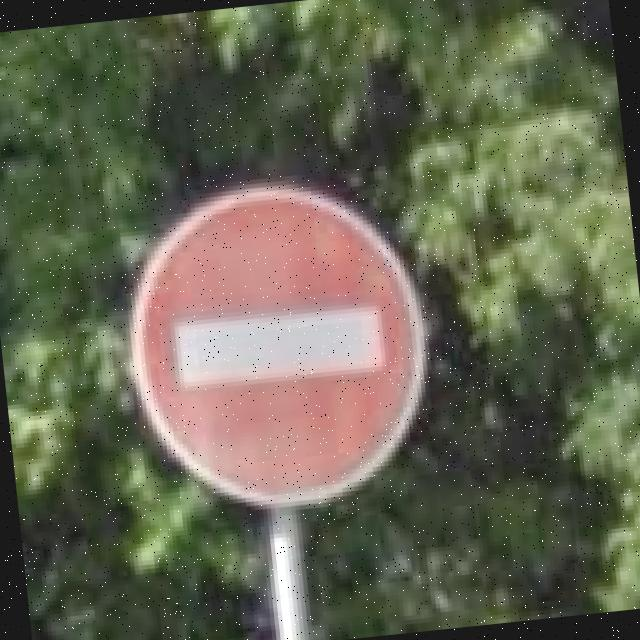Zakaz wjazdu: (112, 168, 439, 517)
